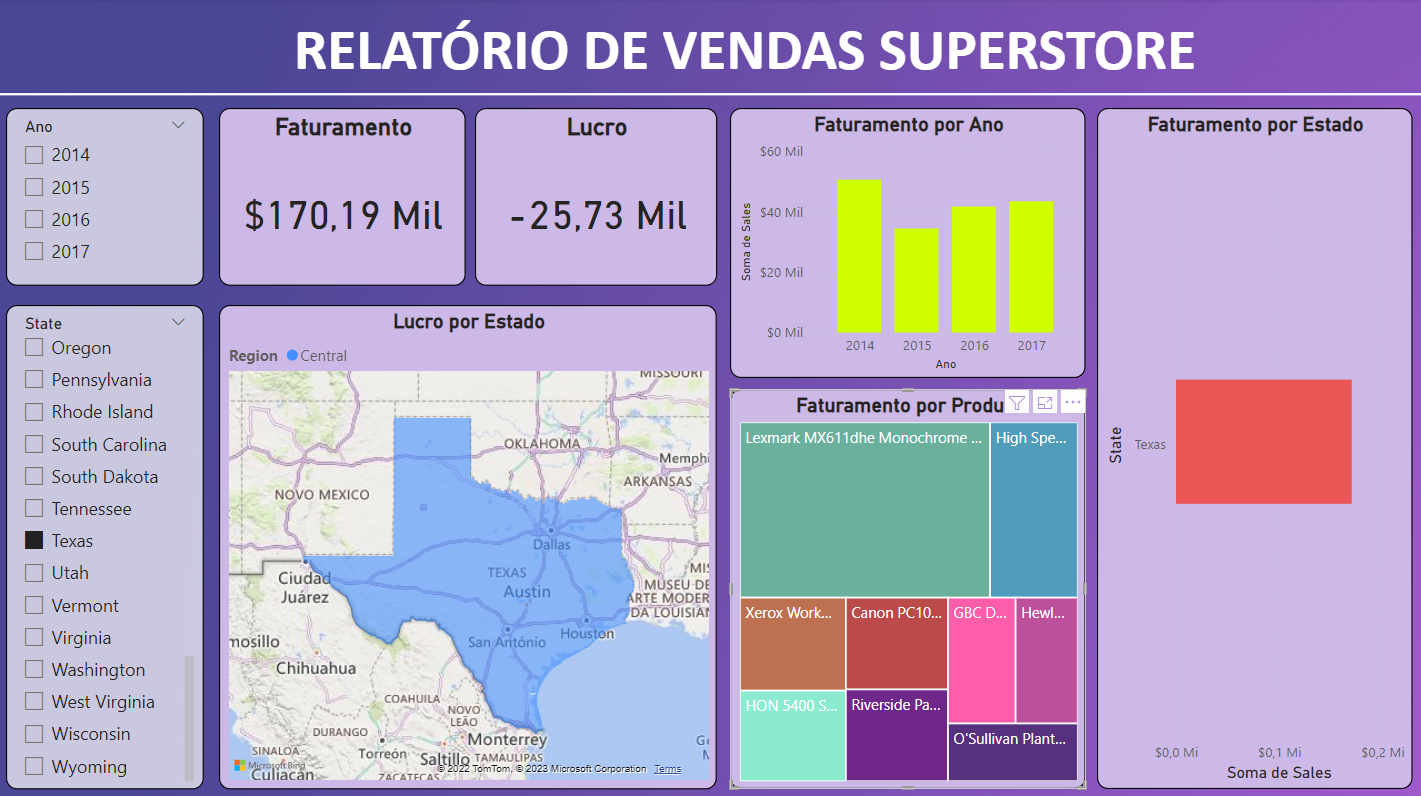

Layout of this report page (visuals, bound fields, positions):
{"tool":"powerbi","page":{"name":"Página 1","canvas":[1280,720],"ordinal":0},"visuals":[{"type":"barChart","title":"Faturamento por Estado","fields":{"Category":["Sample - Superstore.State"],"Y":["Sum(Sample - Superstore.Sales)"]},"box":[988.4,98.1,283.5,613],"z":0},{"type":"slicer","fields":{"Values":["Sample - Superstore.Ano"]},"box":[6.3,98.1,178.2,160.2],"z":1000},{"type":"slicer","fields":{"Values":["Sample - Superstore.State"]},"box":[6.3,275.4,178.2,435.7],"z":2000},{"type":"columnChart","title":"Faturamento por Ano","fields":{"Y":["Sum(Sample - Superstore.Sales)"],"Category":["Sample - Superstore.Ano"]},"box":[658,98.1,320.5,243],"z":3000},{"type":"card","title":"Faturamento","fields":{"Values":["Sum(Sample - Superstore.Sales)"]},"box":[198,98.1,222.3,160.2],"z":4000},{"type":"filledMap","title":"Lucro por Estado","fields":{"Category":["Sample - Superstore.State"],"Series":["Sample - Superstore.Region"]},"box":[198,275.4,448.3,435.7],"z":5000},{"type":"textbox","box":[157.5,7.2,1028,78.3],"z":6000},{"type":"shape","box":[0,79.2,1280,12.6],"z":7000},{"type":"treemap","title":"Faturamento por Produto","fields":{"Group":["Sample - Superstore.Product Name"],"Values":["Sum(Sample - Superstore.Sales)"]},"box":[658,351.1,320.5,360.1],"z":8000},{"type":"card","title":"Lucro","fields":{"Values":["Sum(Sample - Superstore.Profit)"]},"box":[428.5,98.1,217.8,160.2],"z":8001}]}

Visuals, with their boxes in screenshot pixels (x1, y1, x2, y2), scaled from the page's 1280x720 canvas onto the 1421x796 screenshot:
"Faturamento por Estado" barChart: [1097,108,1412,786]
slicer - Sample - Superstore.Ano: [7,108,205,286]
slicer - Sample - Superstore.State: [7,304,205,786]
"Faturamento por Ano" columnChart: [730,108,1086,377]
"Faturamento" card: [220,108,467,286]
"Lucro por Estado" filledMap: [220,304,717,786]
textbox: [175,8,1316,95]
shape: [0,88,1420,101]
"Faturamento por Produto" treemap: [730,388,1086,786]
"Lucro" card: [476,108,717,286]
